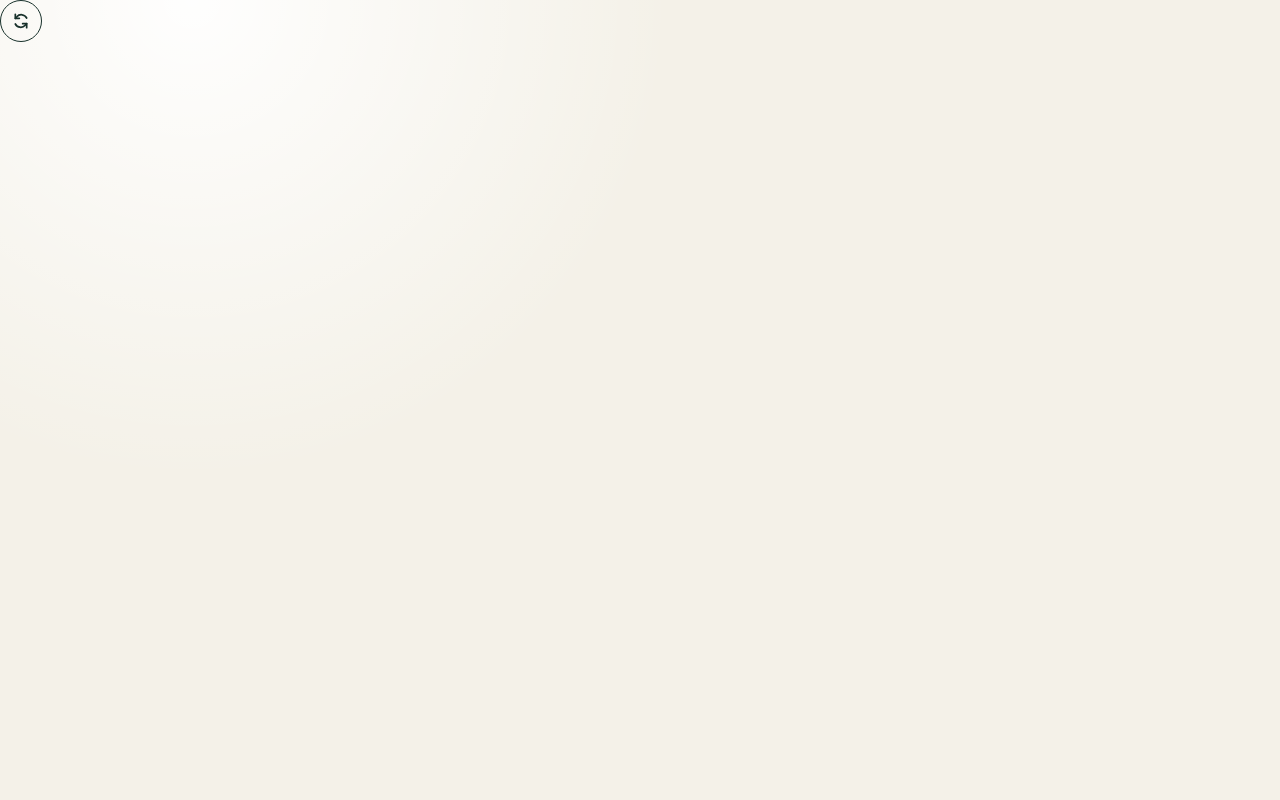
SyncPanel: entry and local validation › does not submit with password shorter than six characters
This screenshot has width=1280, height=800.
Later steps or results of the test are not shown.
Click the button named "登录与数据同步" at (21, 21), box [0,0,42,42]
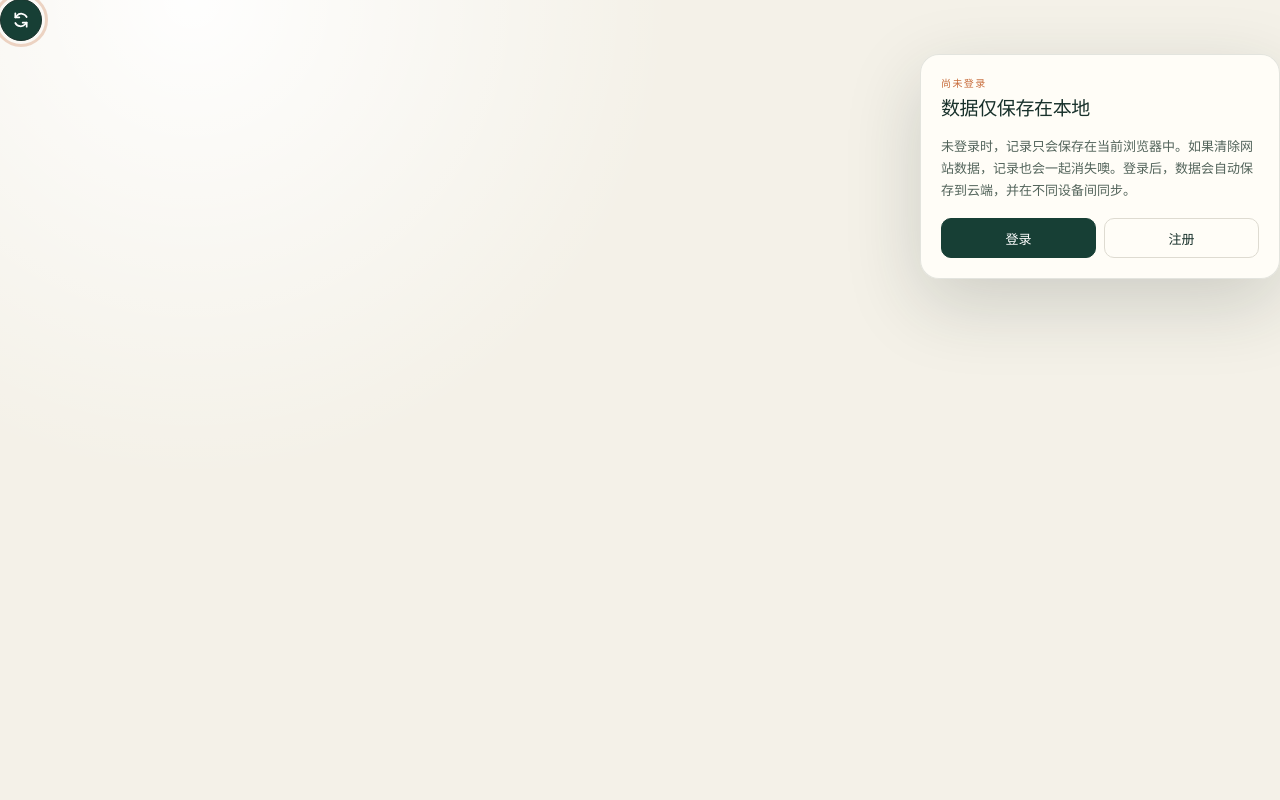
Check: the button "注册" is shown
Click the button "注册" at (1182, 238), box [1104,218,1259,258]
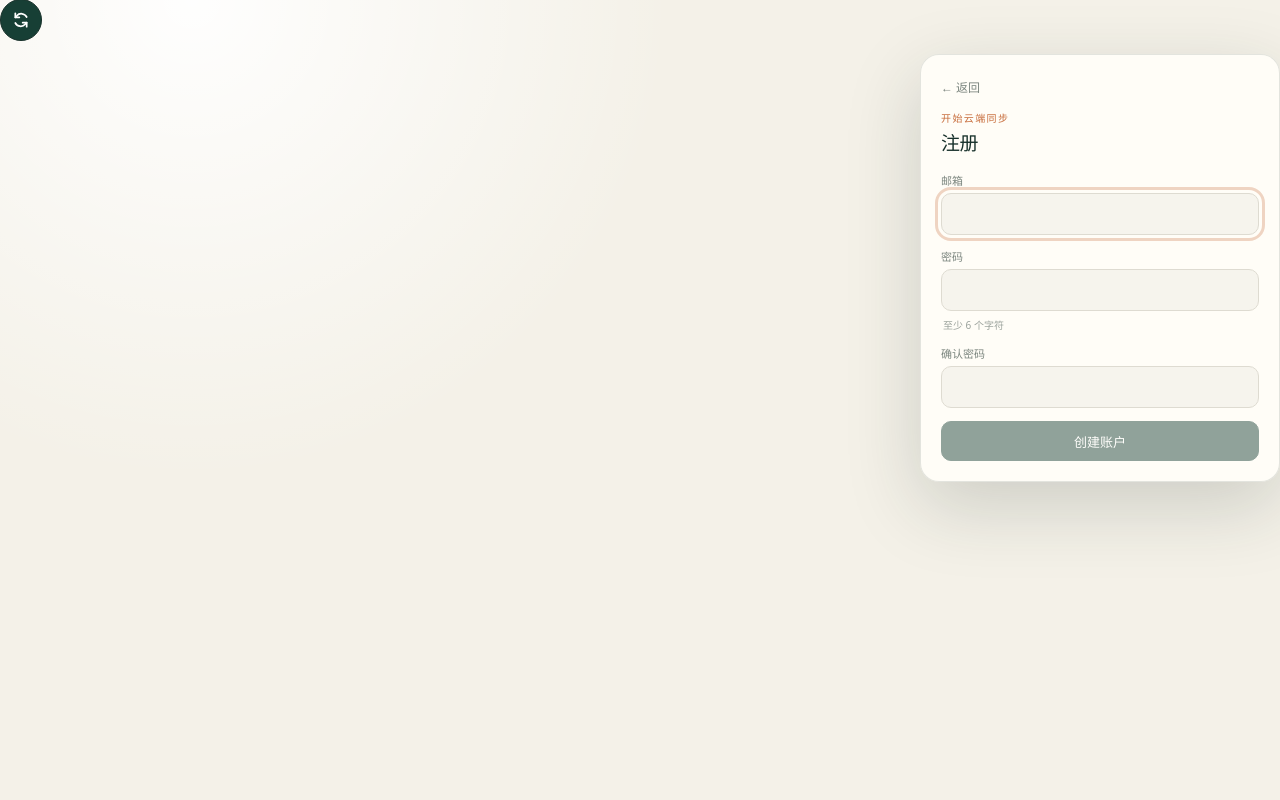
Type "preview+test1@example.com" into the field labelled "邮箱" at (1100, 214), box [941,193,1259,235]
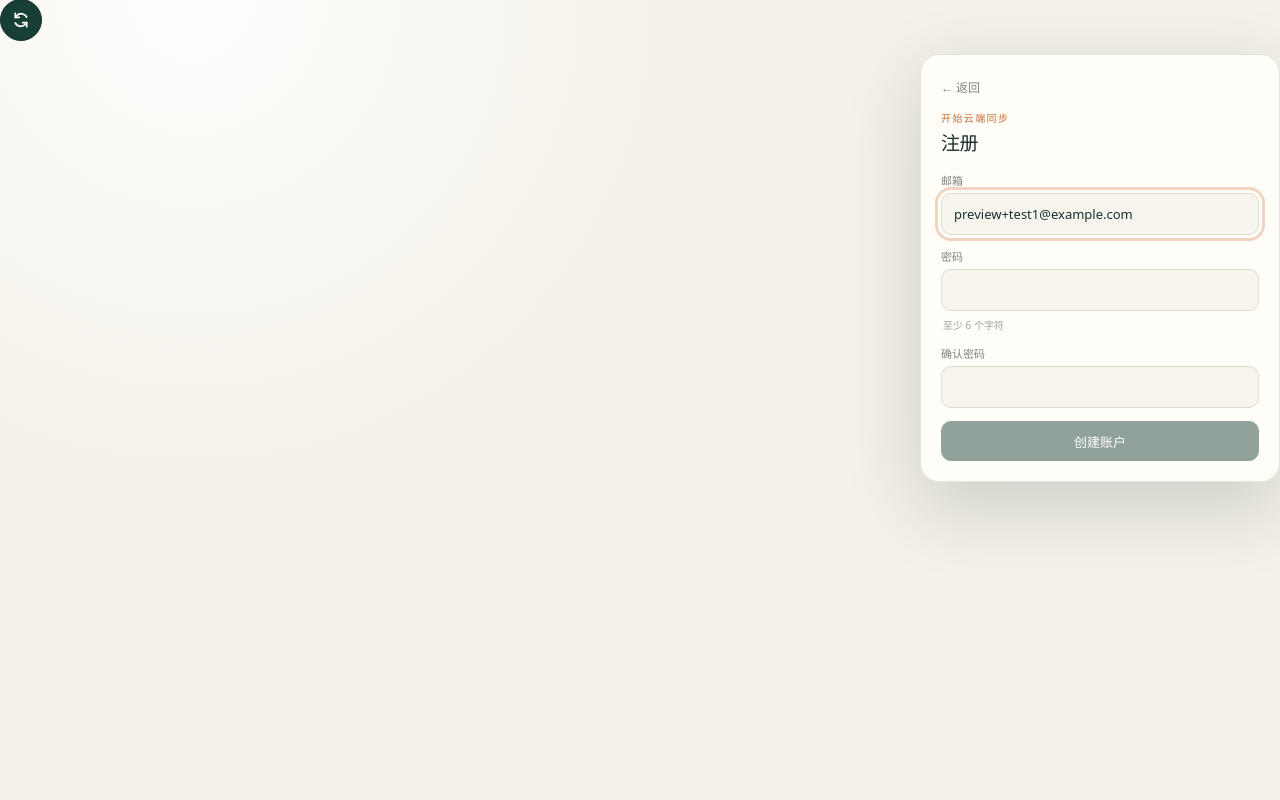
Type "12345" into the password field labelled "密码" at (1100, 290), box [941,269,1259,311]
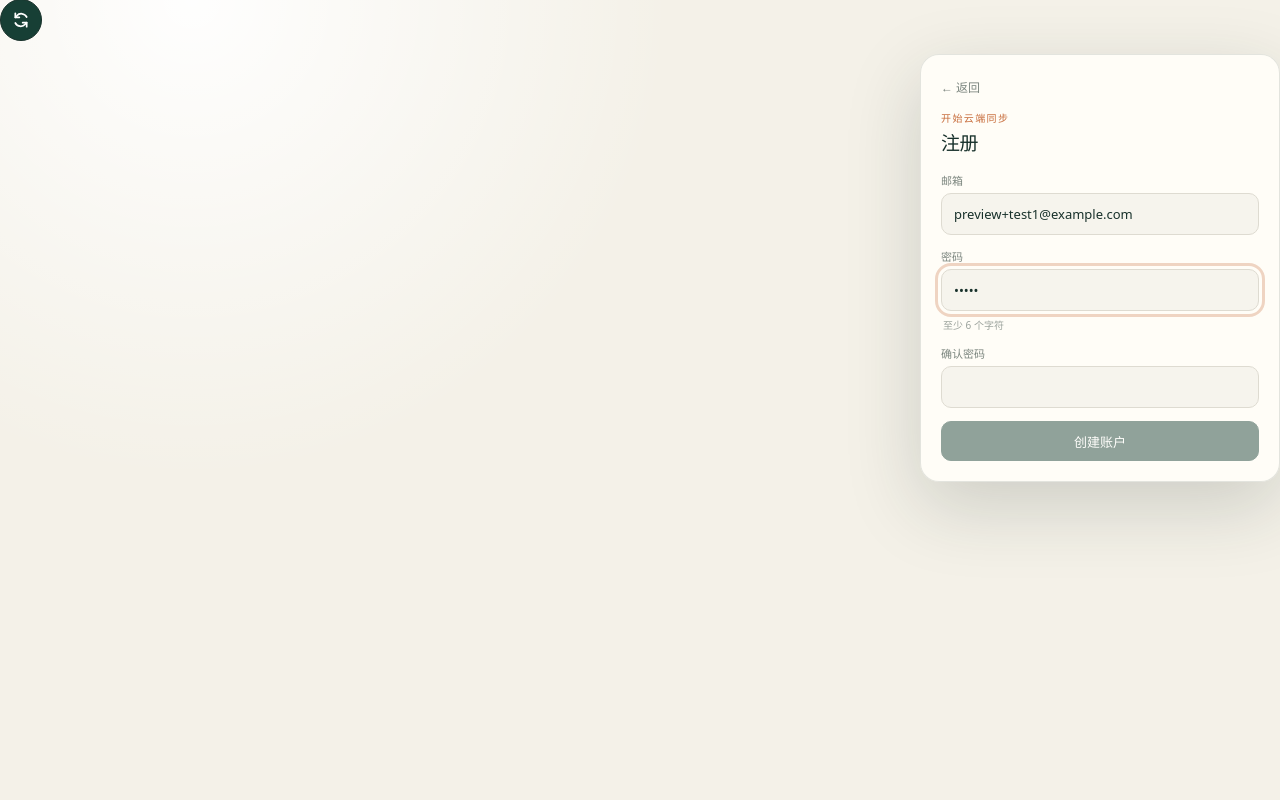
Type "12345" into the password field labelled "确认密码" at (1100, 387), box [941,366,1259,408]
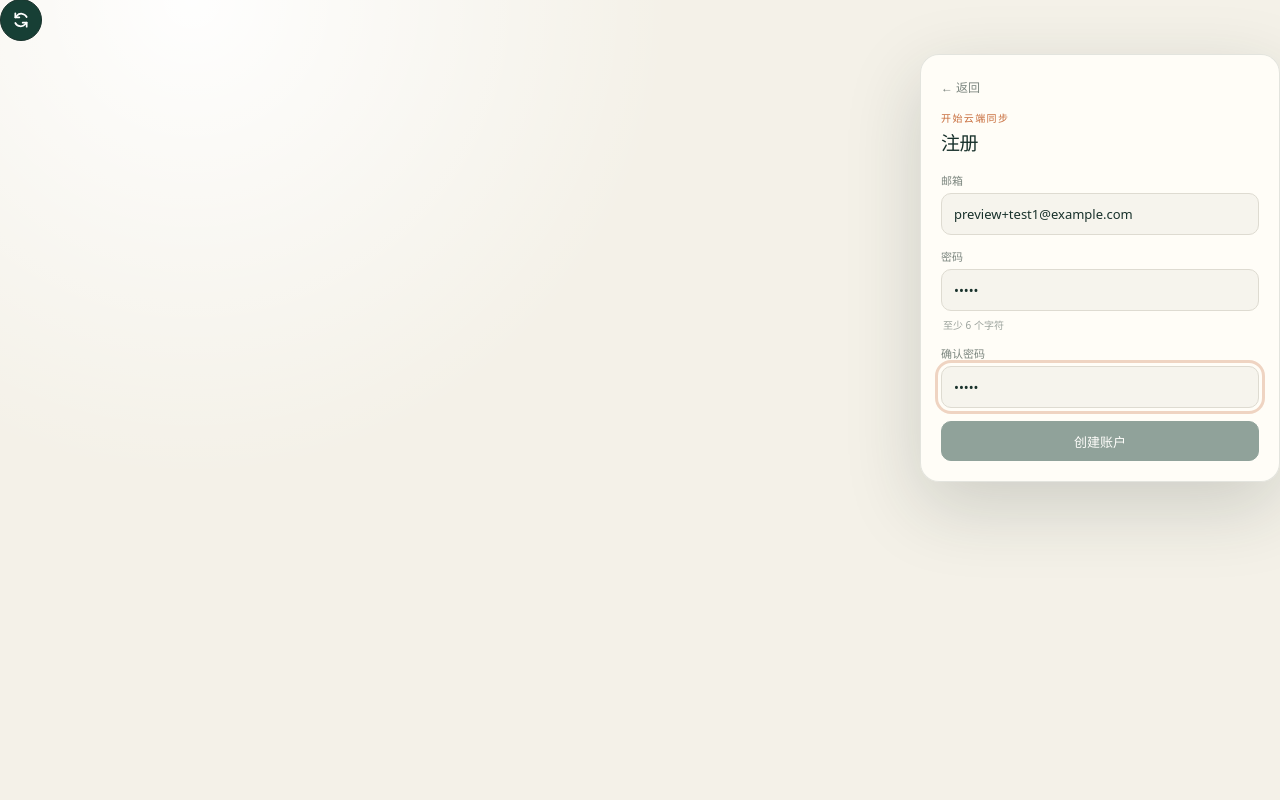
Check: the button "创建账户" is disabled, box [941,421,1259,461]
